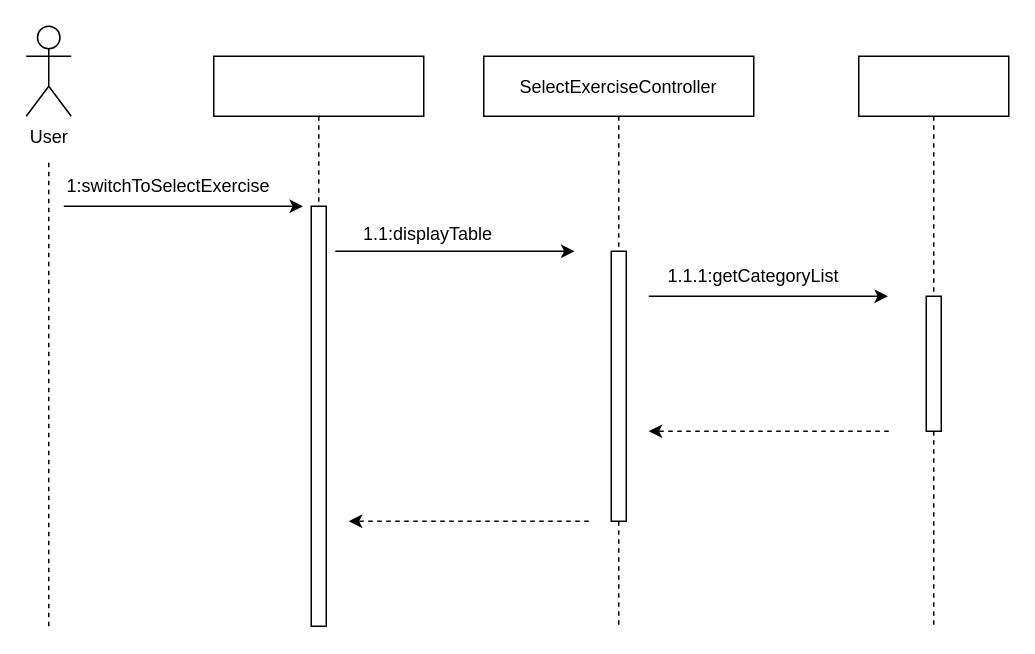
Image size: 1035x654. Some labels were removed from this diagram. Each missing label, with the box of its shape:
AddExerciseController: (212, 55, 424, 626)
DataSingleton: (857, 55, 1009, 626)
